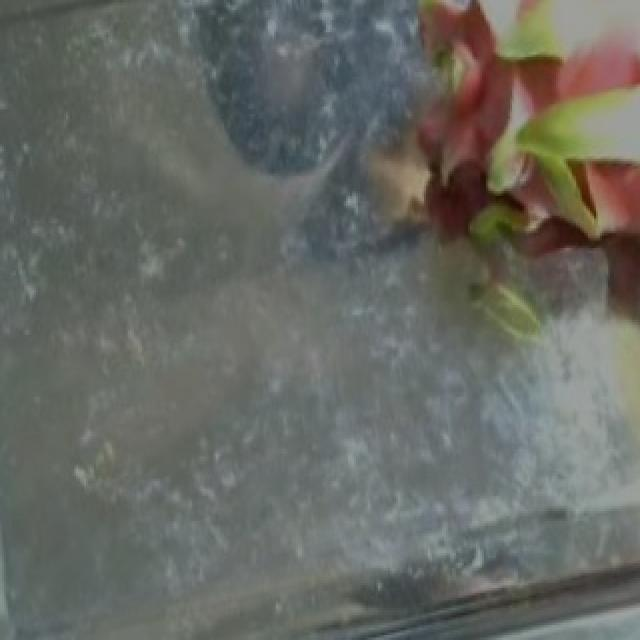fruit: (332, 0, 640, 399)
